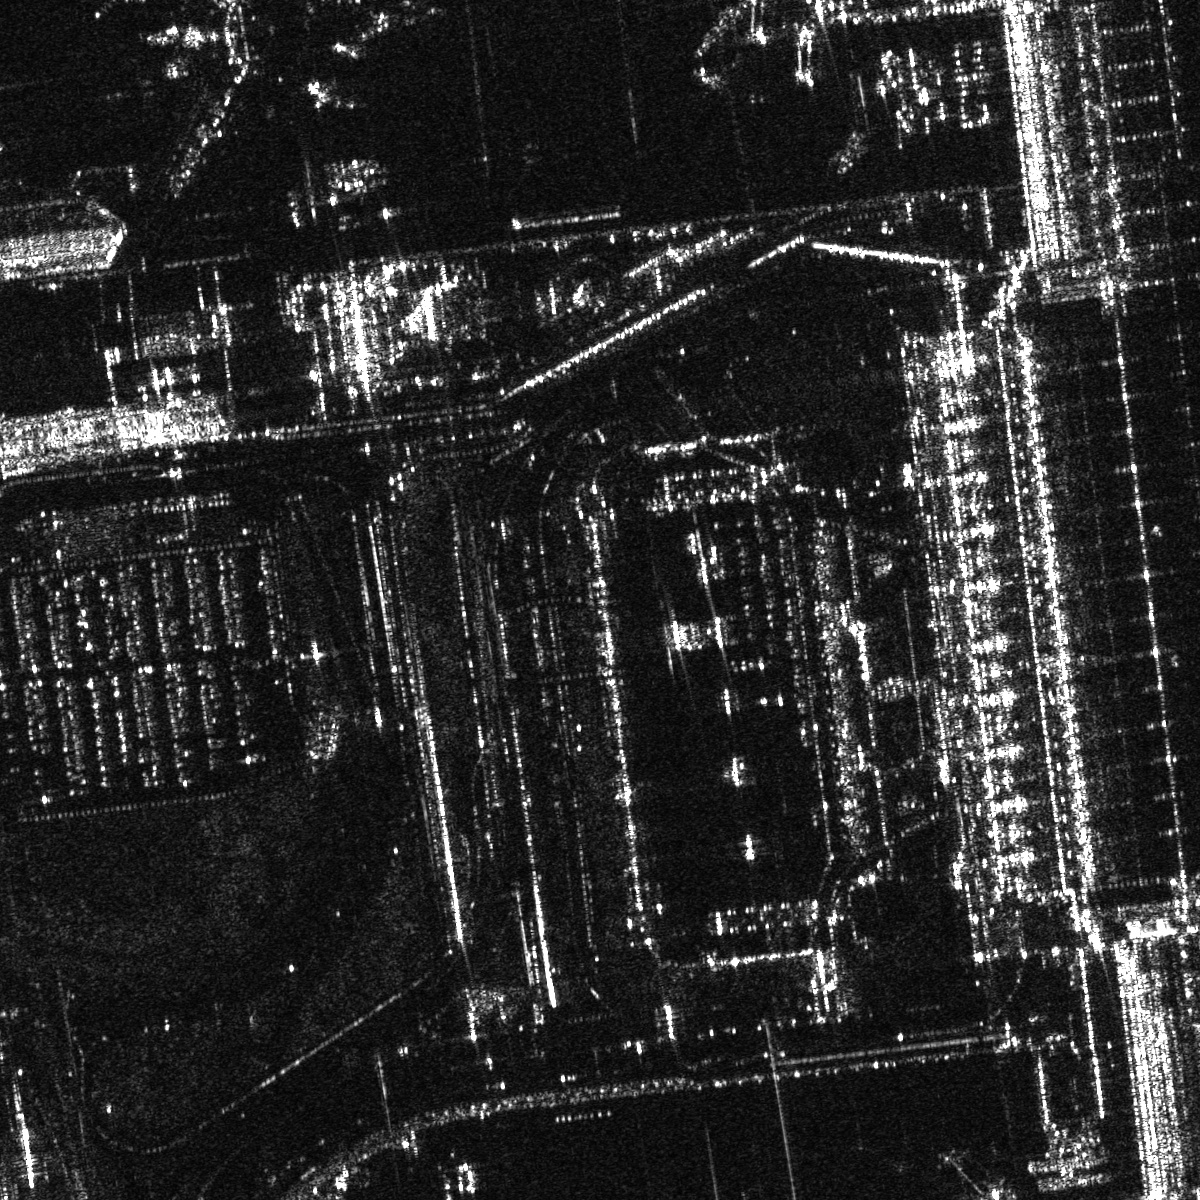A220: (112, 69, 157, 110)
